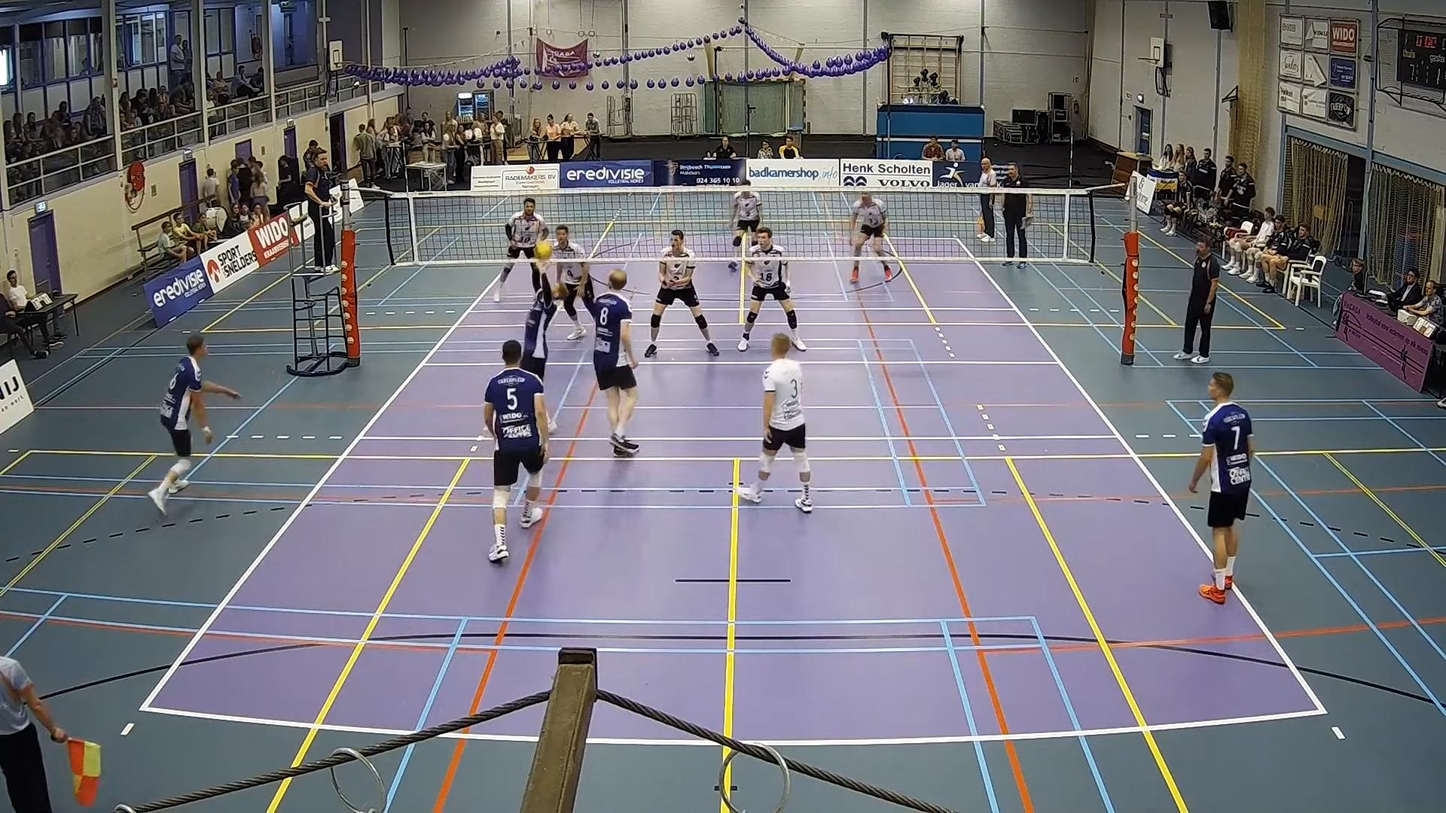Player: (148, 336, 238, 514), (1188, 373, 1253, 604), (484, 340, 548, 562), (737, 333, 812, 513), (581, 269, 639, 455), (644, 230, 718, 358), (737, 227, 807, 351), (493, 197, 547, 301), (551, 225, 586, 340), (850, 192, 892, 282), (732, 179, 761, 248)
Set: (515, 253, 575, 436)
ball: (535, 241, 560, 259)
